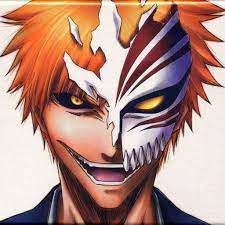Ichigo: (15, 1, 200, 207)
